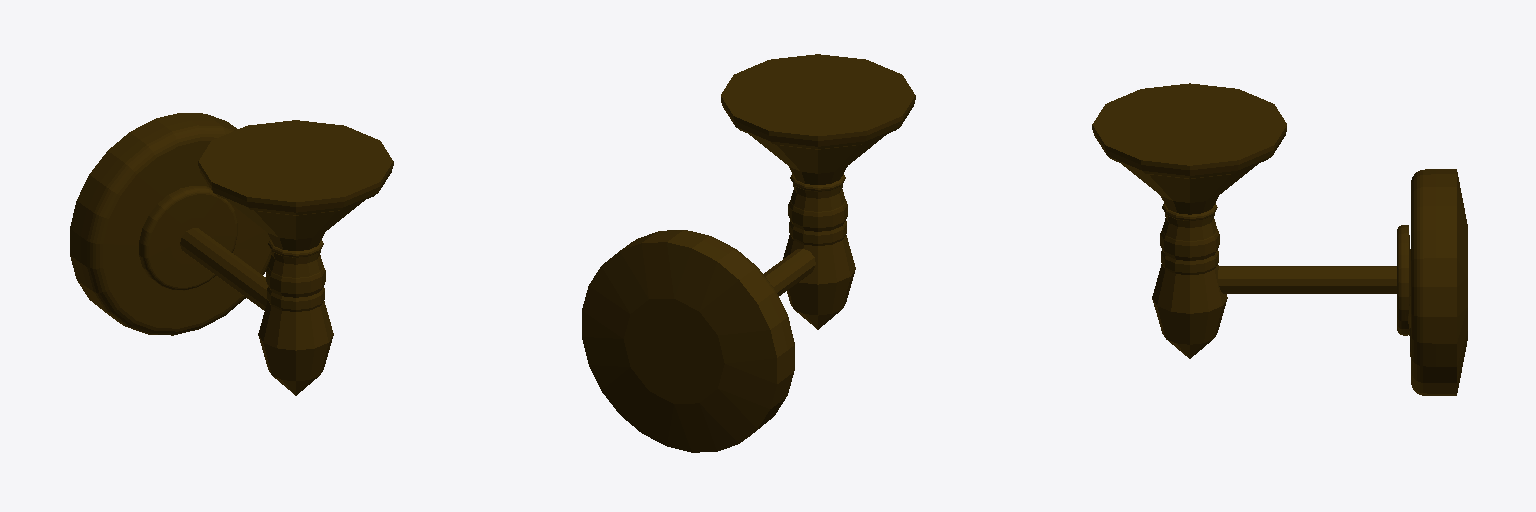
The model's file is lamp_holder.obj.
The picture shows the model from 3 angles: view 1: azimuth 30°, elevation 25°; view 2: azimuth 150°, elevation 25°; view 3: azimuth 270°, elevation 25°; orthographic projection.
Parts seen in each view (by area): view 1: lamp_holder_Object01; view 2: lamp_holder_Object01; view 3: lamp_holder_Object01.
Boxes of the visible parts, x1,y1,x2,y2 form: lamp_holder_Object01: [70, 113, 393, 395]; lamp_holder_Object01: [582, 54, 915, 452]; lamp_holder_Object01: [1092, 83, 1467, 395].
Size of the model in its own units: 0.4604 by 0.5807 by 0.7659.